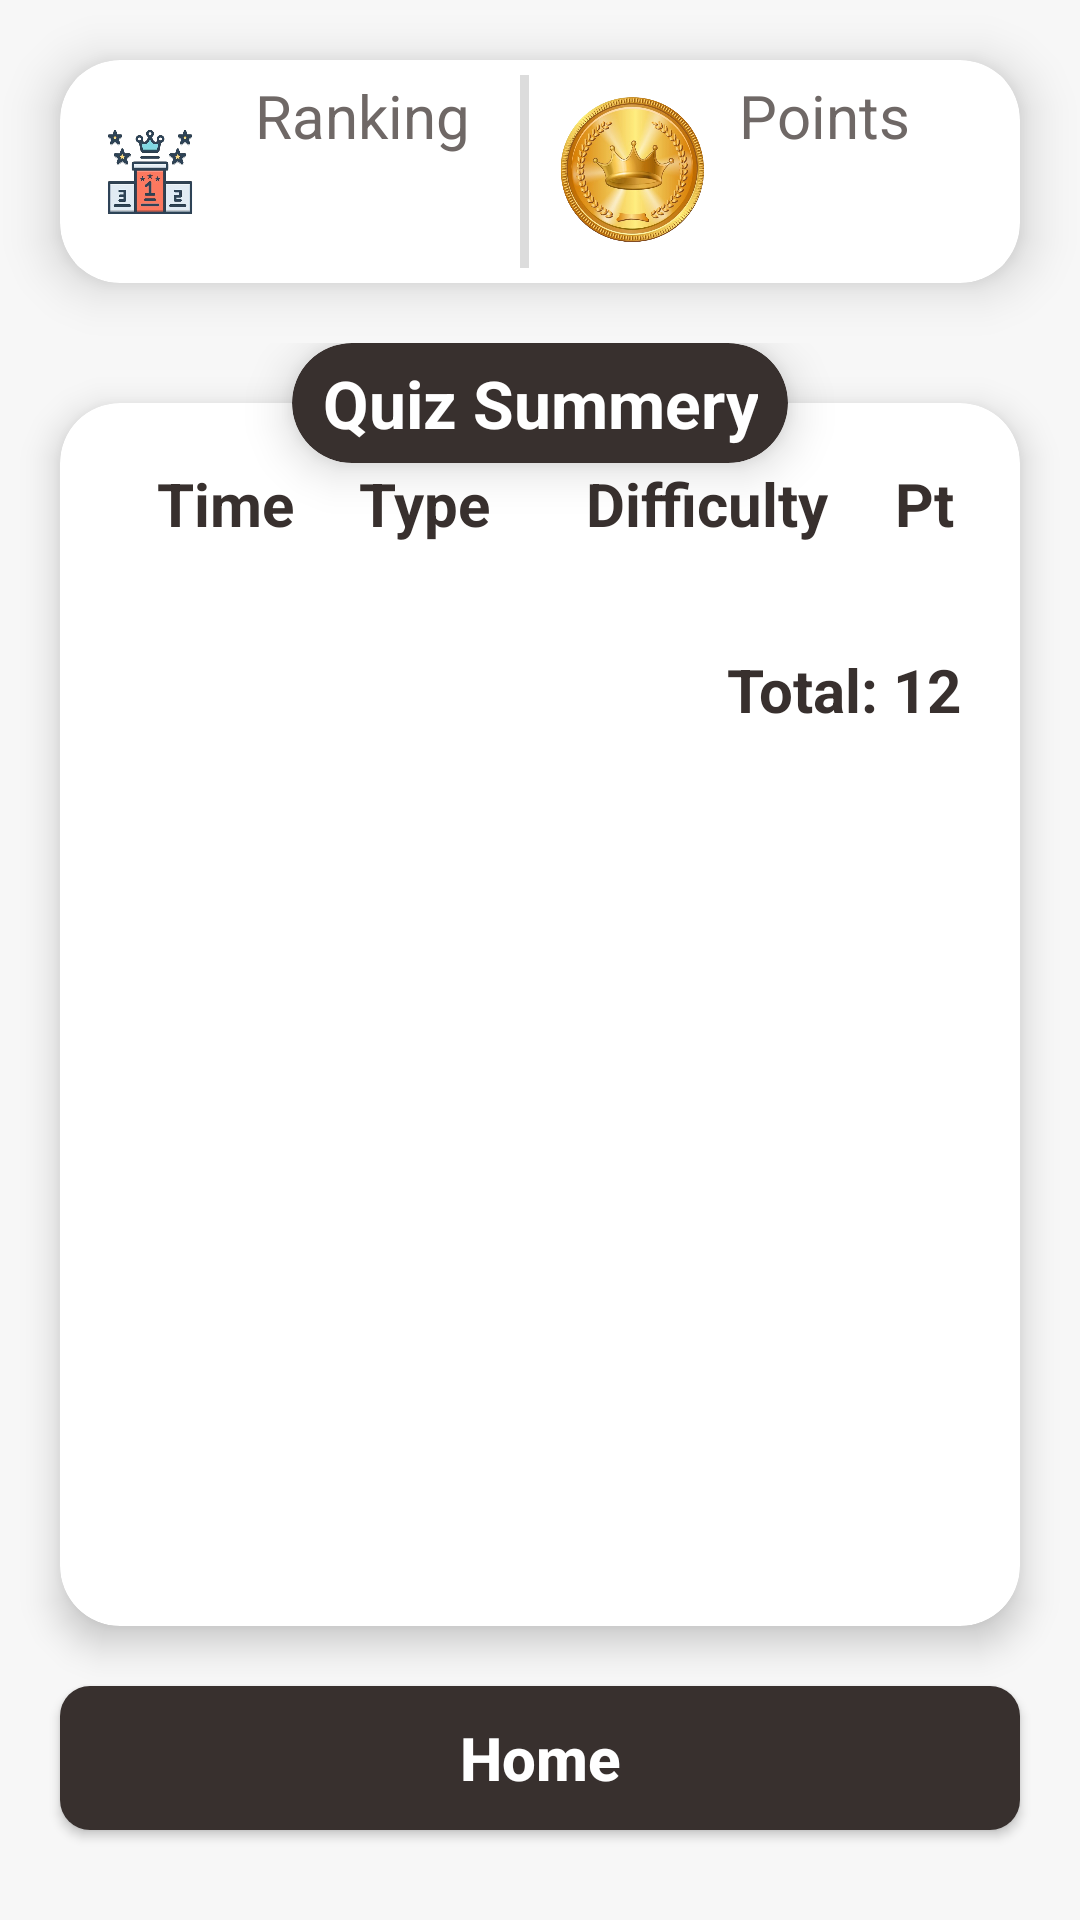

Named icons in this screenshot (1080 x 1920) and their bounding boxes, rect(x1, y1, x2, y2):
coin: rect(561, 97, 704, 242)
